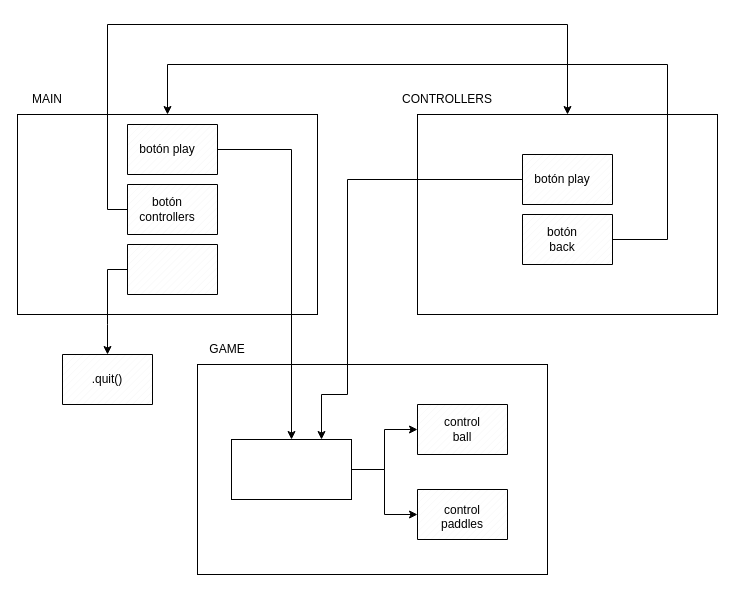
The diagram is 735 pixels wide and 592 high, and some of its shapes have lost their labels. The box of each missing label's shape, as (x1, y1, x2, y2) in pixels:
botón salir: (126, 244, 218, 294)
controlador juego: (230, 438, 352, 500)
